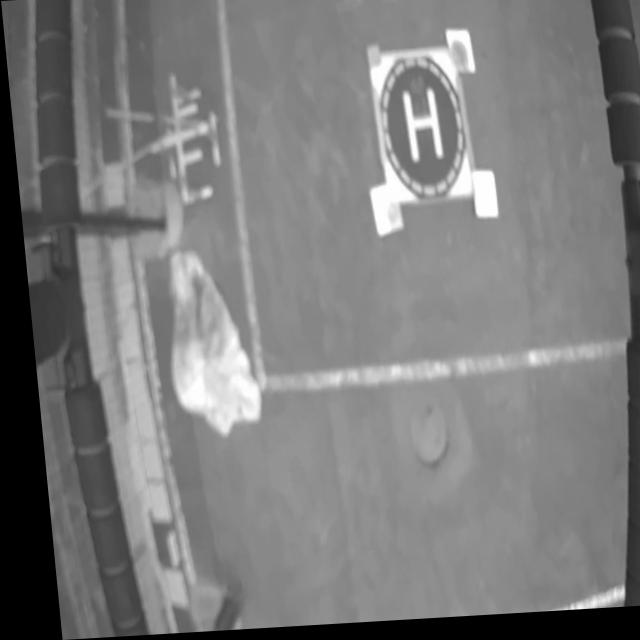Helipad: (397, 88, 441, 168)
